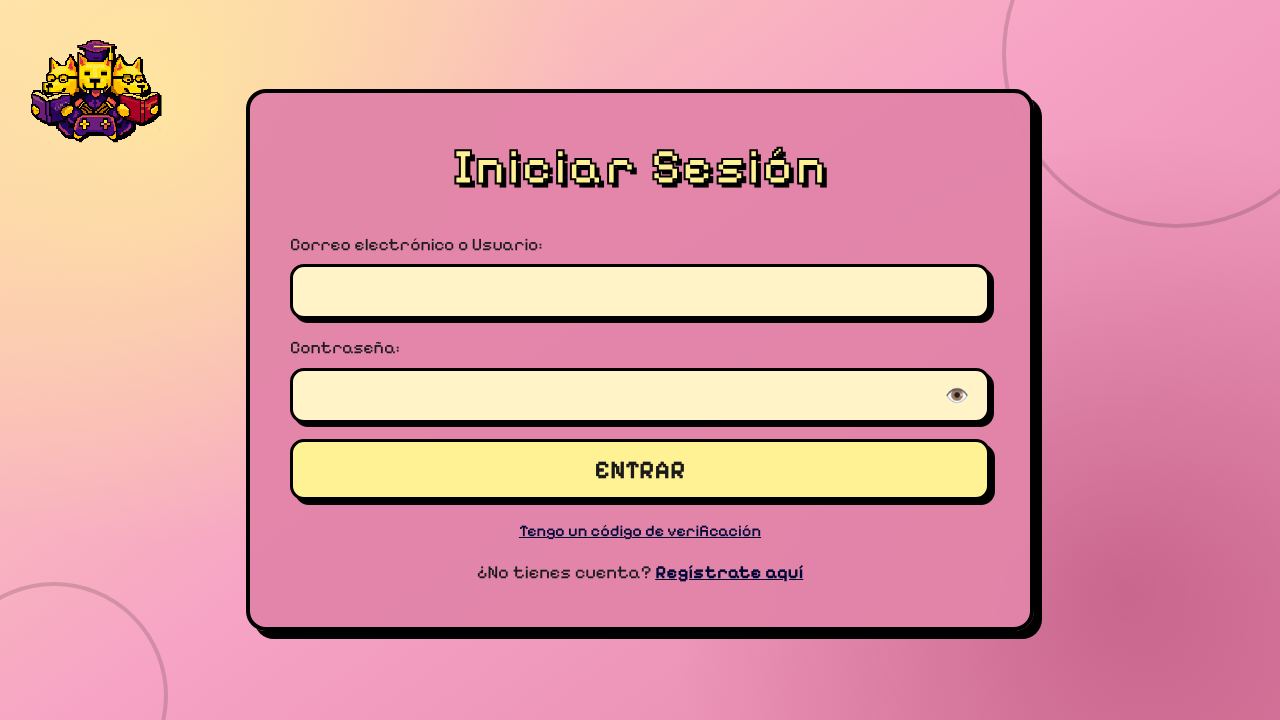
Test: LoginPage › muestra el mensaje devuelto por la API cuando falla el login
The width and height of the screenshot is (1280, 720).
Type "alumno1" into the field labelled "Correo electrónico o Usuario:".
click(640, 292); type("alumno1")  # box x1=307 y1=267 x2=973 y2=316
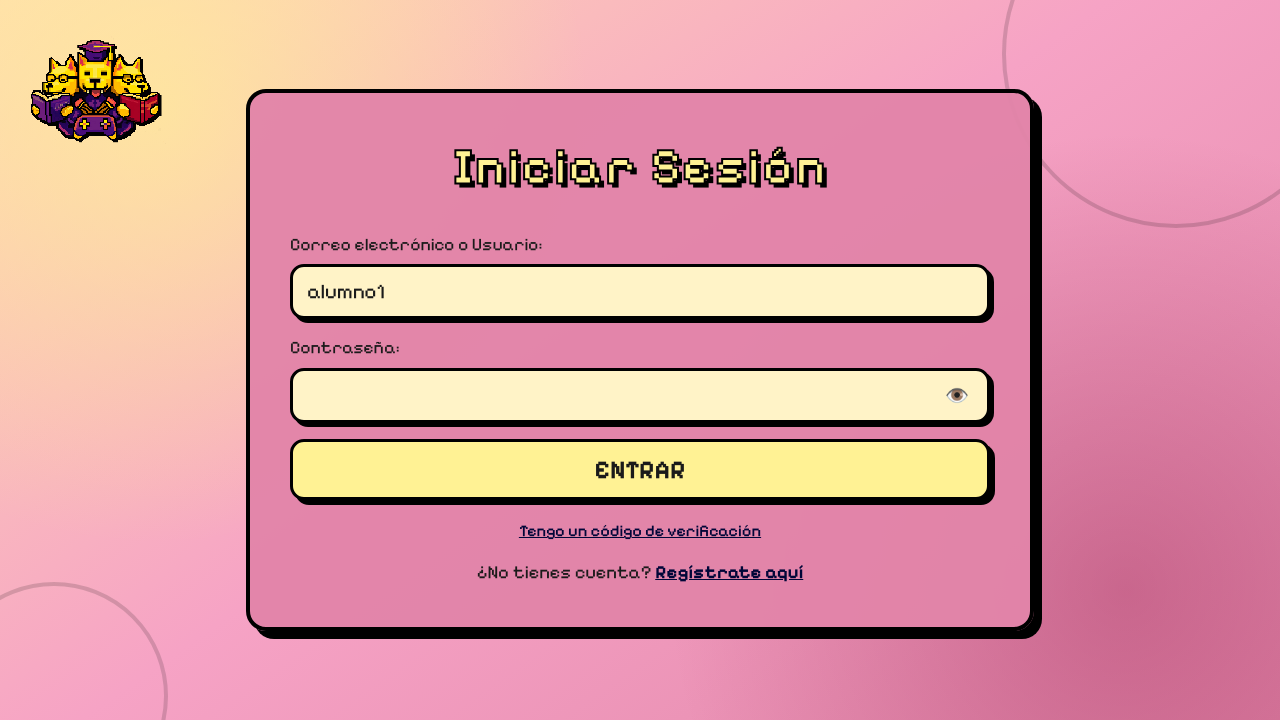
Type "bad-password" into the password field labelled "Contraseña:".
click(624, 395); type("bad-password")  # box x1=307 y1=371 x2=941 y2=420
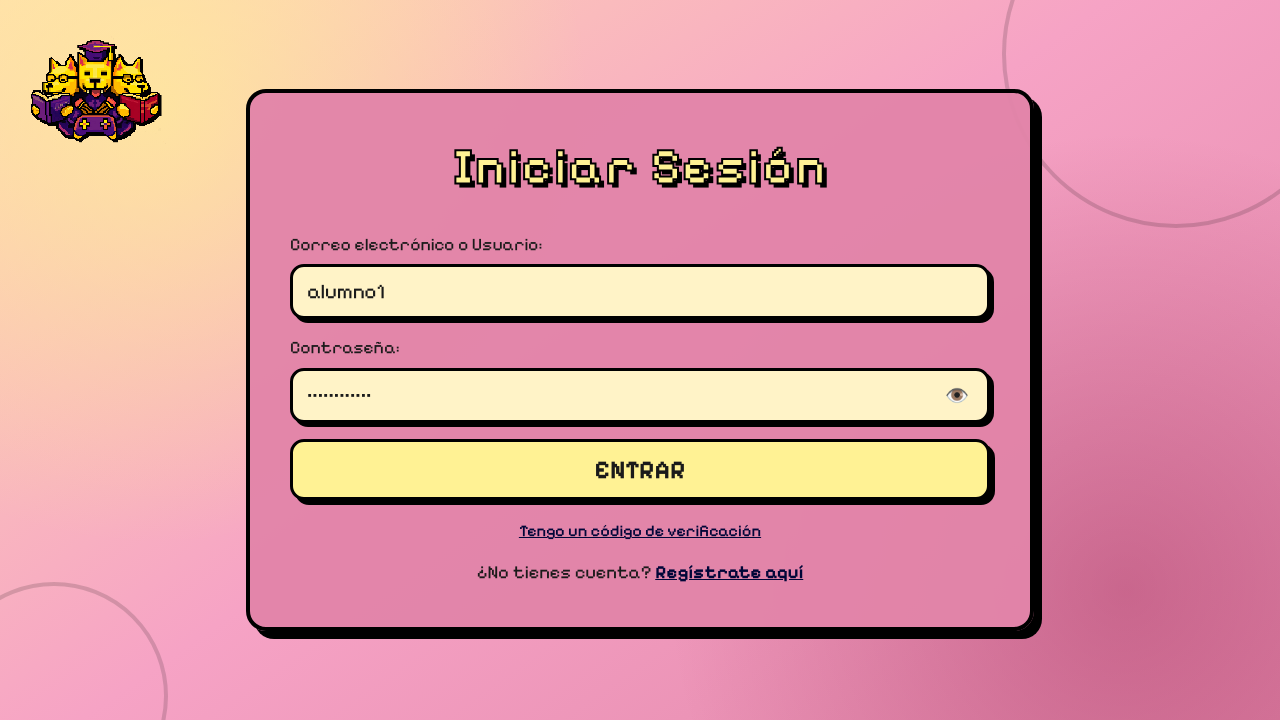
Click the button "ENTRAR".
click(640, 469)  # box x1=290 y1=439 x2=990 y2=500
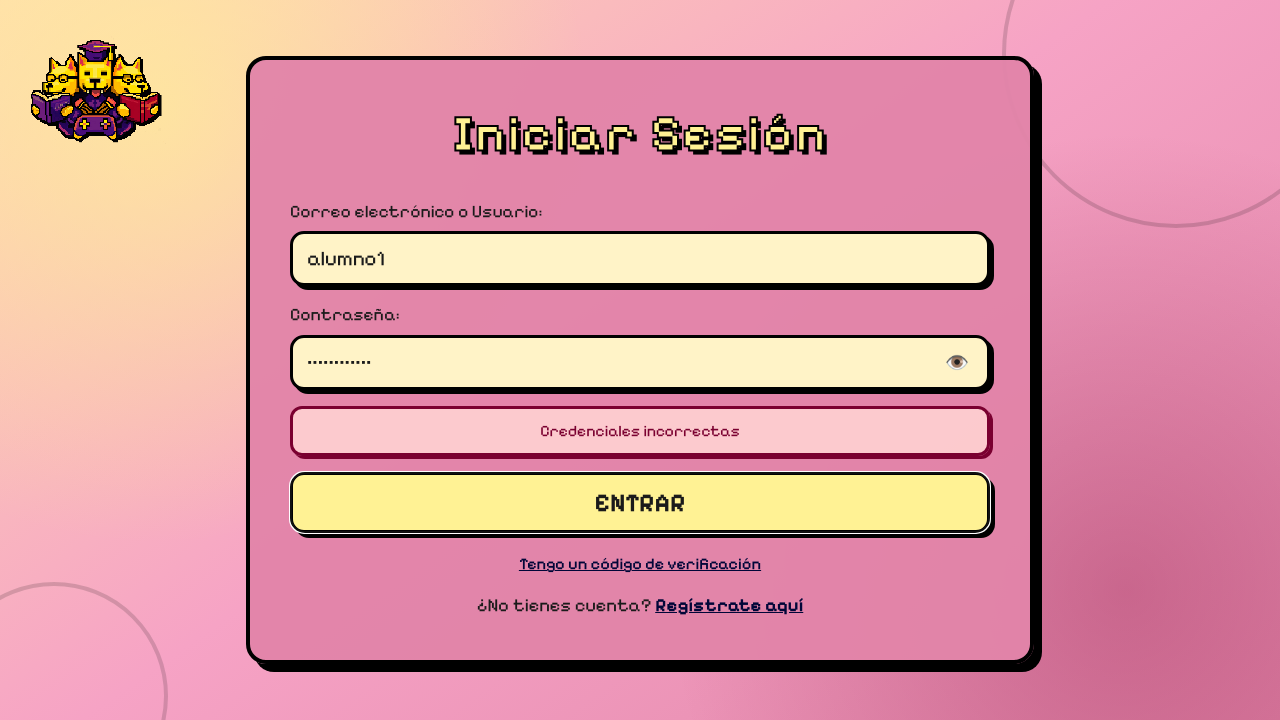
Result: the text "Credenciales incorrectas" is shown at x1=290 y1=406 x2=990 y2=456
